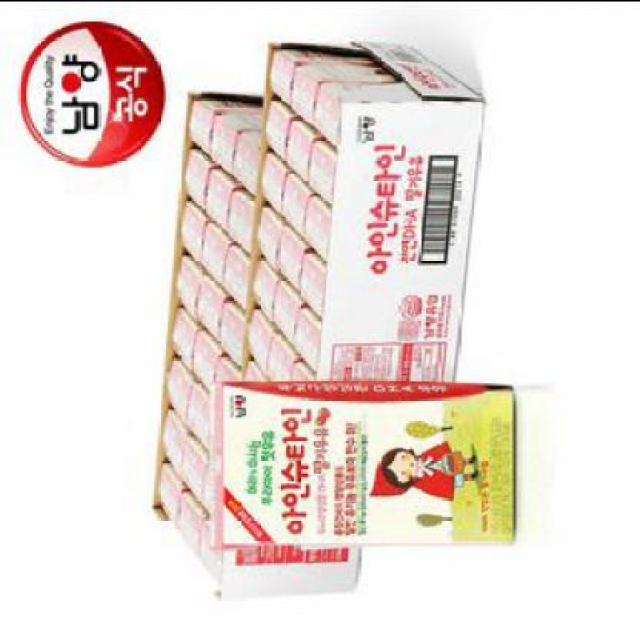tetra: (191, 358, 547, 577)
